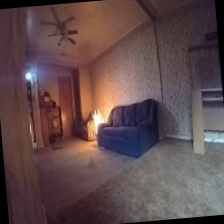fire: (87, 108, 103, 132)
